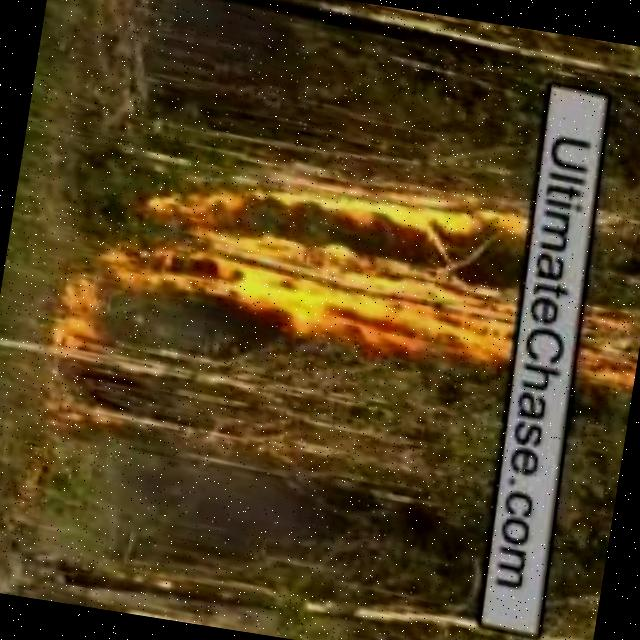fire: (92, 115, 536, 388), (562, 290, 640, 390), (43, 264, 94, 355)
